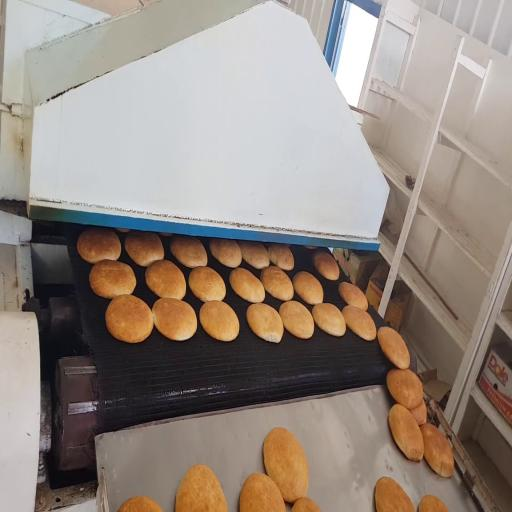bread: (264, 428, 308, 503), (175, 465, 227, 511), (106, 295, 153, 343), (388, 404, 423, 461), (152, 298, 197, 340), (420, 424, 454, 477), (89, 260, 136, 298), (240, 473, 285, 511), (200, 301, 239, 341), (146, 260, 186, 299), (77, 229, 121, 264), (387, 369, 423, 410), (247, 303, 283, 342), (375, 477, 415, 511), (378, 327, 410, 369), (279, 301, 314, 338), (125, 232, 163, 266), (189, 267, 226, 301), (342, 305, 376, 341), (230, 268, 264, 302), (260, 266, 293, 301), (171, 236, 207, 268), (312, 303, 345, 336), (293, 272, 323, 304), (238, 241, 270, 270), (210, 239, 241, 267), (339, 282, 368, 310), (313, 251, 339, 280), (268, 244, 294, 270), (119, 496, 162, 511), (418, 495, 448, 511), (292, 497, 321, 511), (411, 401, 427, 425), (116, 228, 130, 233), (160, 232, 172, 237), (304, 246, 317, 249)
